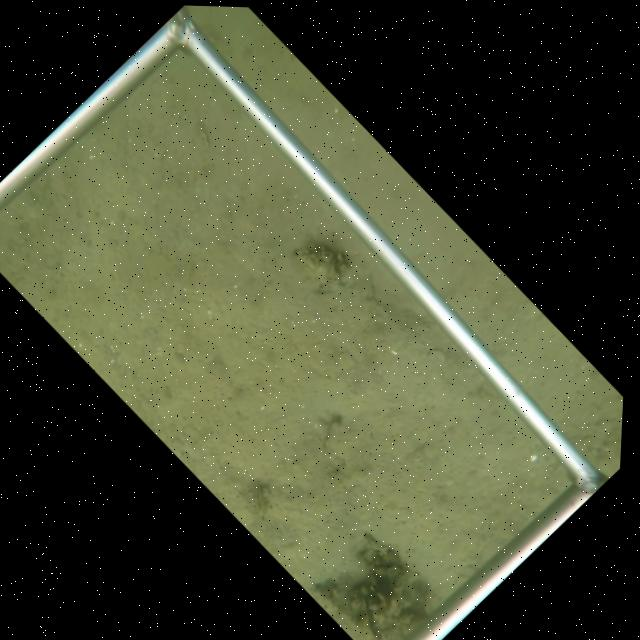Oyster-Closed: (248, 481, 268, 523)
